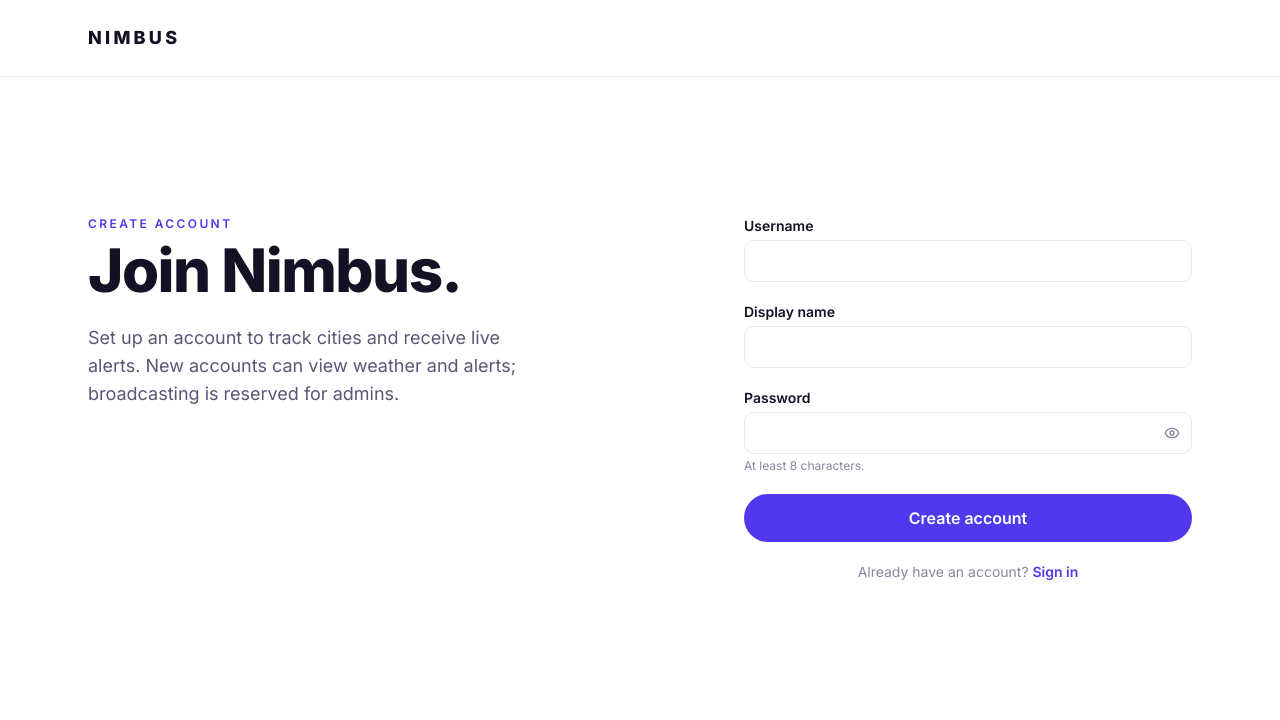
Test: RegisterPage › shows a generic reach-error on a non-ApiError rejection
In the field labelled "Username": (968, 260) top-left (744, 240), bottom-right (1192, 282), type "newbie"
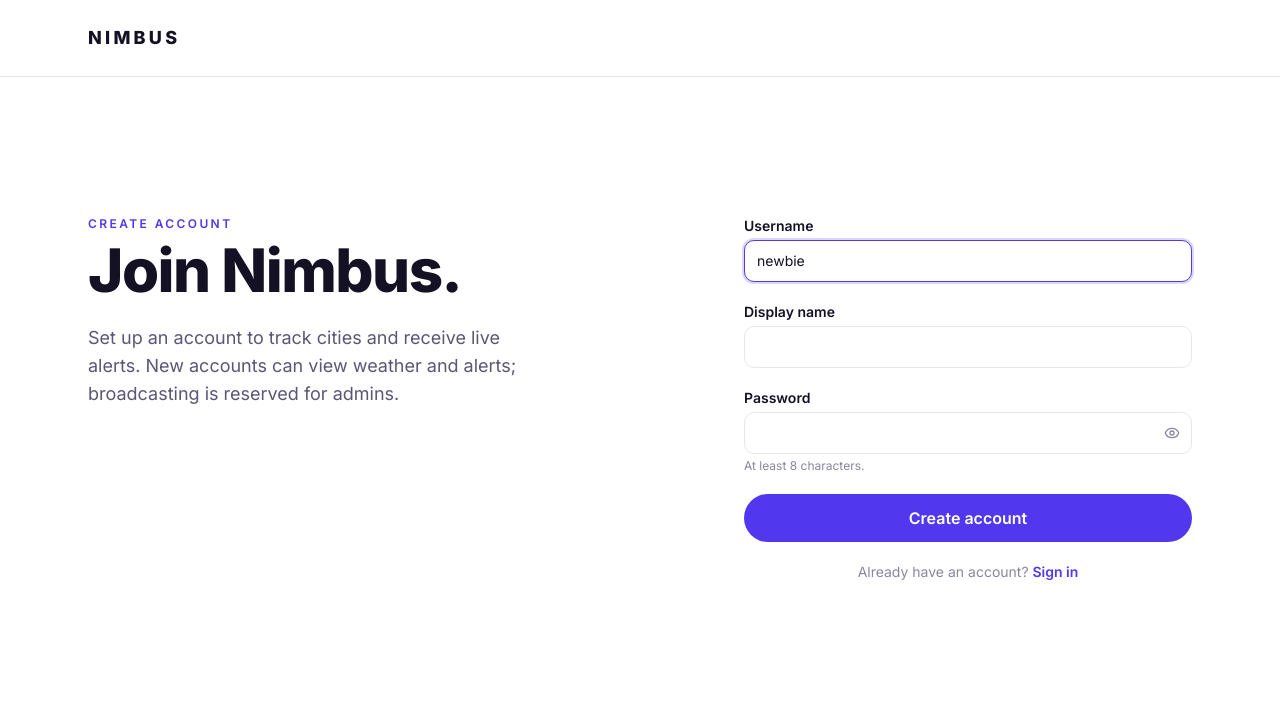
In the field labelled "Display name": (968, 346) top-left (744, 326), bottom-right (1192, 368), type "New Bie"
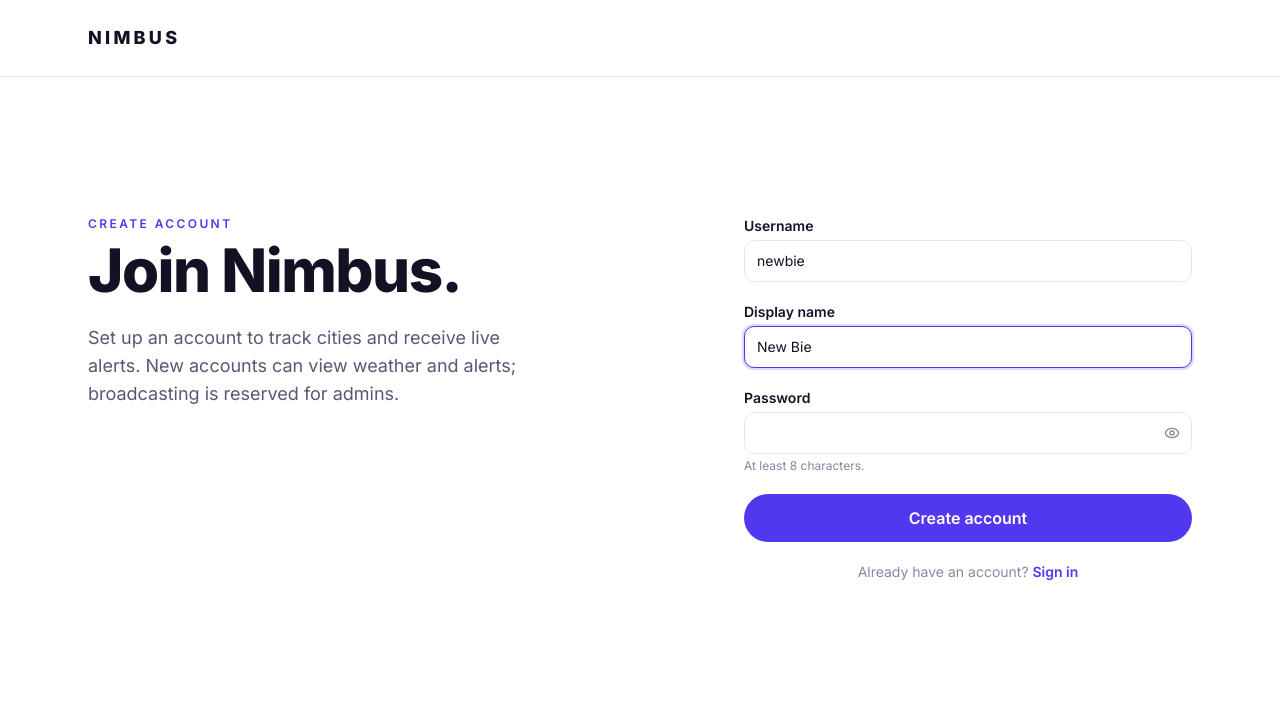
In the password field labelled "Password": (968, 432) top-left (744, 412), bottom-right (1192, 454), type "password123"
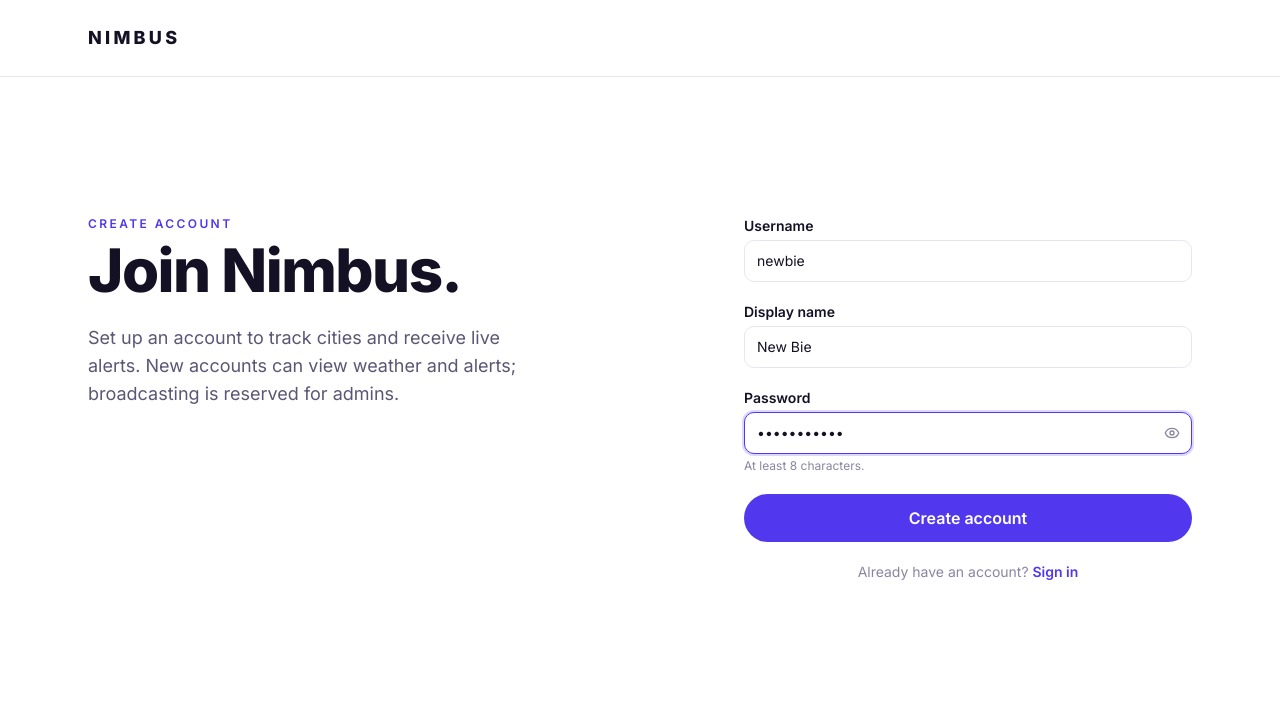
Click the button "Create account": click(968, 518) top-left (744, 494), bottom-right (1192, 542)
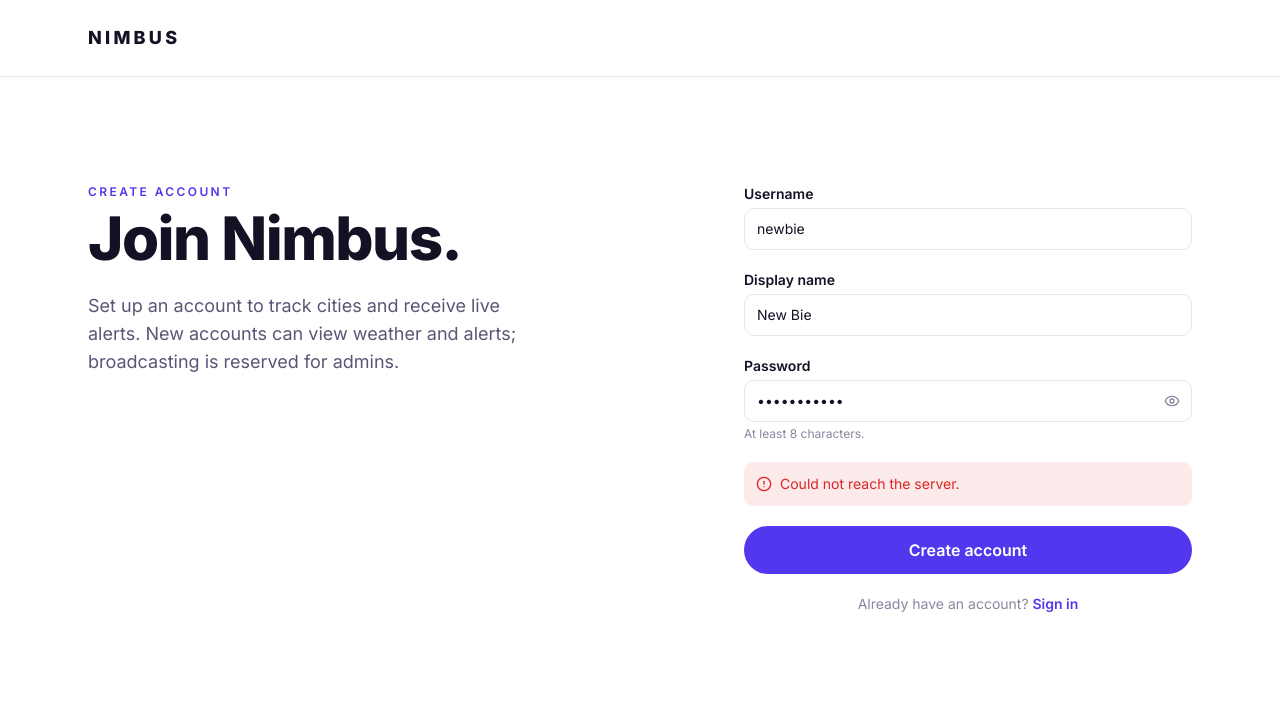
Now the message shows "Could not reach the server", box top-left (780, 474), bottom-right (960, 492)
